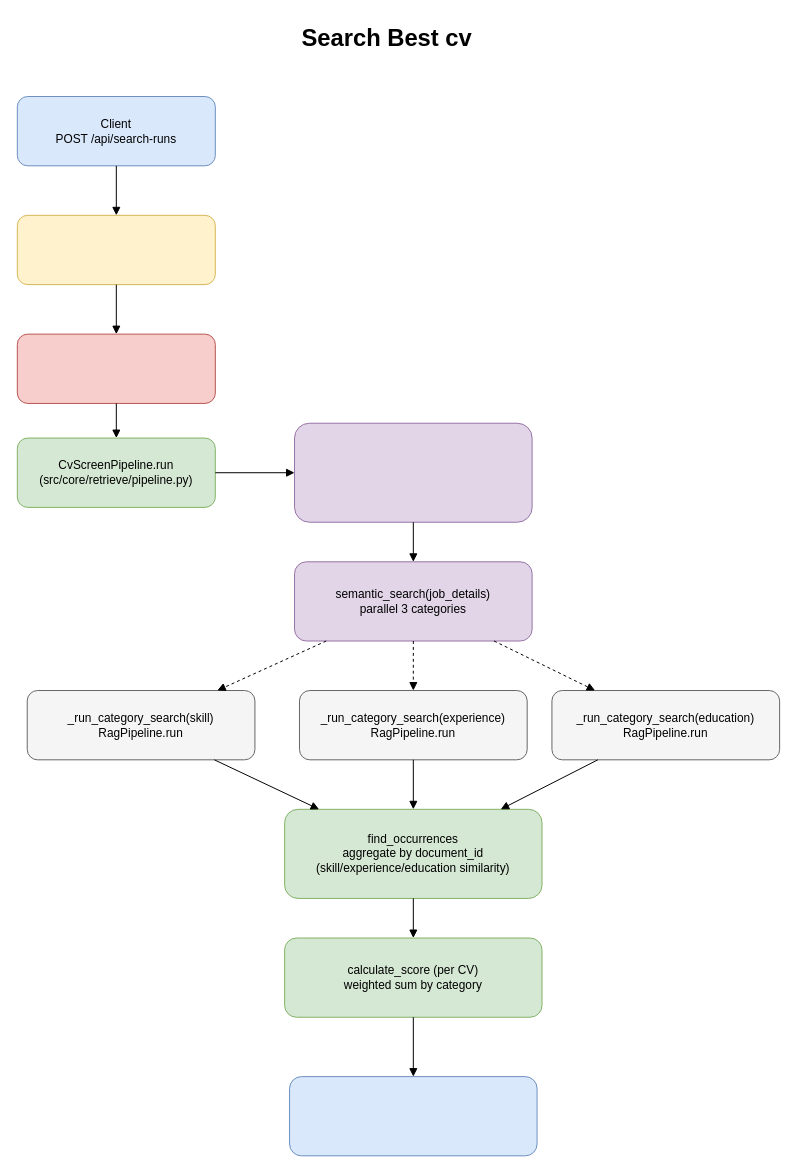
Some shapes in this 797 by 1173 pixel diagram are drawn without their labels. The shapes that lost their labels are listed below. From the top down, each one's centre as x and y in pixels, then its label:
[115,249]: SearchRunCreateView.post (src/core/views.py)
[115,368]: Validate input job_offer_text / top_k / weights
[413,472]: split_job_description - skill - experience - education
[413,1116]: Return ranked results HTTP 200 JSON
